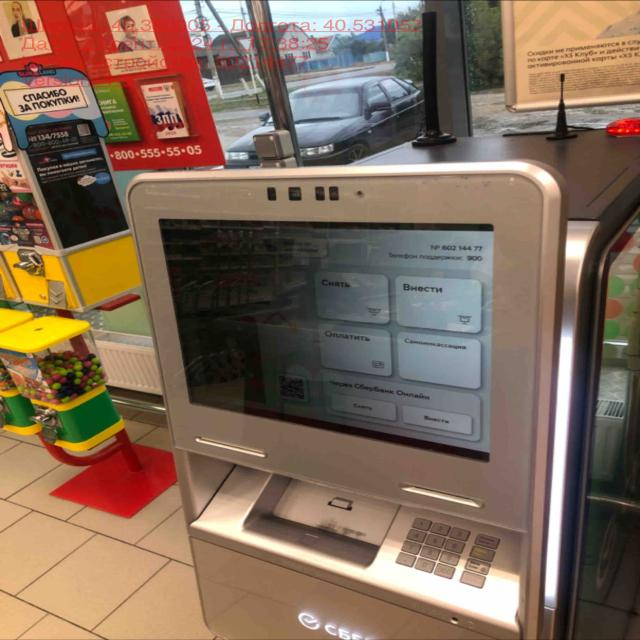bank: (121, 129, 640, 640)
